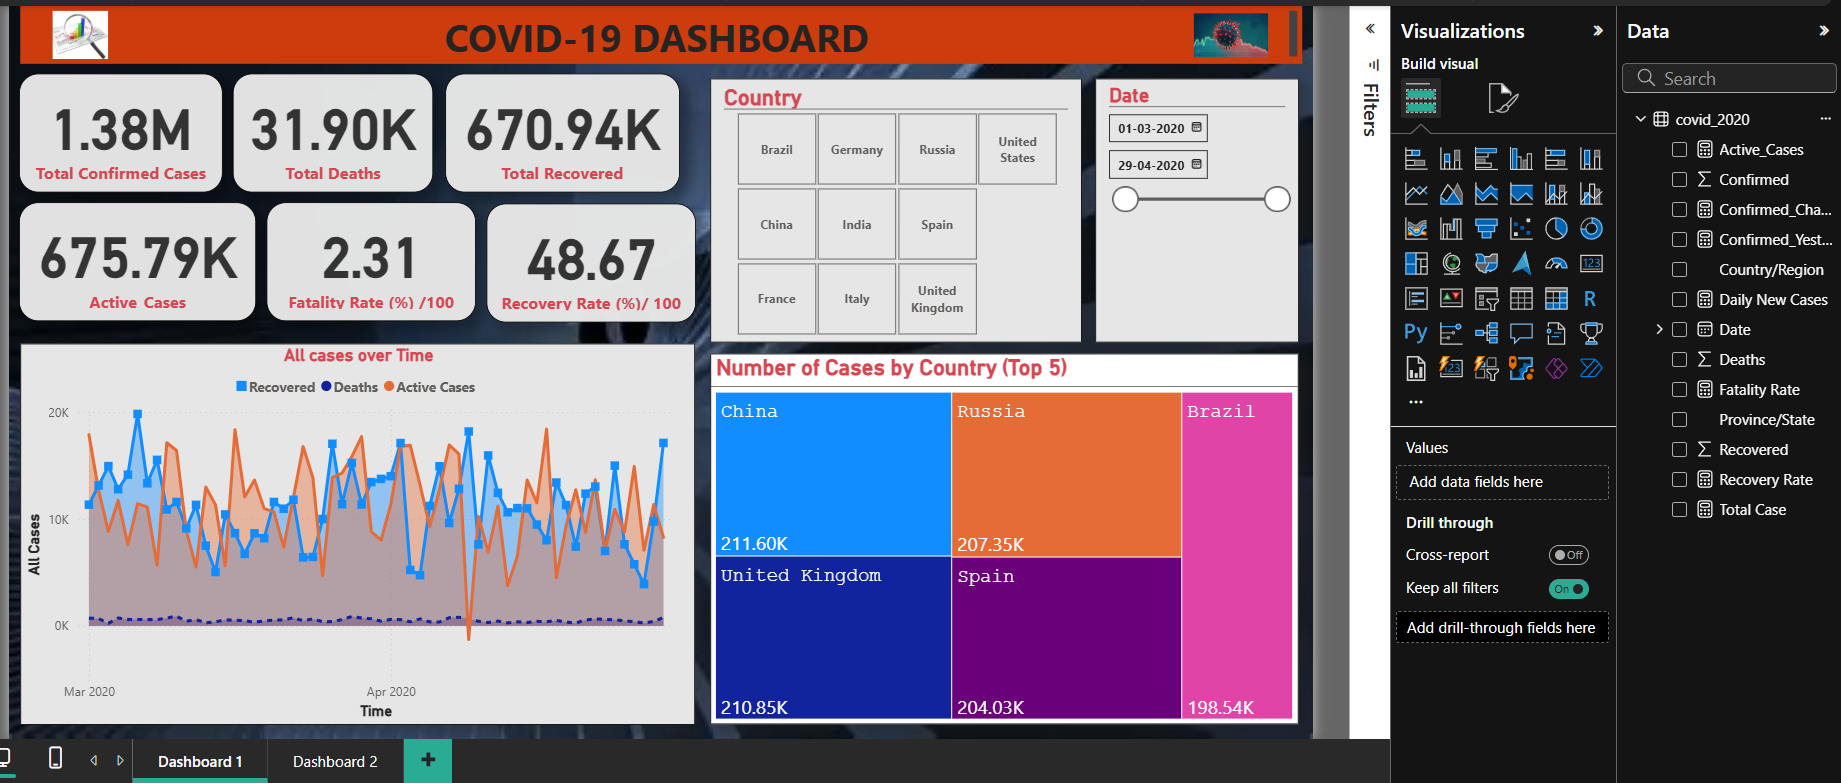

Layout of this report page (visuals, bound fields, positions):
{"tool":"powerbi","page":{"name":"Dashboard 1","canvas":[1280,720],"ordinal":0},"visuals":[{"type":"textbox","box":[11.4,0,1258.6,57.1],"z":0},{"type":"image","box":[1158.6,0,82.9,57.1],"z":1000},{"type":"image","box":[38.6,0,64.3,57.1],"z":2000},{"type":"card","fields":{"Values":["Sum(covid_2020.Confirmed)"]},"box":[10,65.7,200,117.1],"z":3000},{"type":"card","fields":{"Values":["Sum(covid_2020.Deaths)"]},"box":[220,65.7,197.1,117.1],"z":4000},{"type":"card","fields":{"Values":["Sum(covid_2020.Recovered)"]},"box":[428.6,65.7,230,117.1],"z":5000},{"type":"card","fields":{"Values":["covid_2020.Active_Cases"]},"box":[10,192.9,232.9,117.1],"z":6000},{"type":"card","fields":{"Values":["covid_2020.Fatality Rate"]},"box":[252.9,192.9,205.7,117.1],"z":7000},{"type":"card","fields":{"Values":["covid_2020.Recovery Rate"]},"box":[468.6,194.3,205.7,117.1],"z":8000},{"type":"slicer","fields":{"Values":["covid_2020.Country/Region"]},"box":[688.9,71.4,365,259.3],"z":10000},{"type":"slicer","fields":{"Values":["covid_2020.Date"]},"box":[1066.2,71.4,200.3,259.3],"z":11000},{"type":"treemap","title":"Number of Cases by Country (Top 5)","fields":{"Group":["covid_2020.Country/Region"],"Values":["covid_2020.Total Case"]},"box":[688.9,341.7,577.7,363.6],"z":12000},{"type":"areaChart","title":"All cases over Time","fields":{"Y":["Sum(covid_2020.Recovered)","Sum(covid_2020.Deaths)","covid_2020.Active_Cases"],"Category":["covid_2020.Date"]},"box":[11,330.7,662.8,374.6],"z":12001}]}

Visuals, with their boxes on the page's 1280x720 design canvas (x1, y1, x2, y2). These are canvas units, not pixel positions in the 1841x783 screenshot, which may show the page scaled, cropped or inside an application window:
textbox: detection(11, 0, 1270, 57)
image: detection(1159, 0, 1242, 57)
image: detection(39, 0, 103, 57)
card - Sum(covid_2020.Confirmed): detection(10, 66, 210, 183)
card - Sum(covid_2020.Deaths): detection(220, 66, 417, 183)
card - Sum(covid_2020.Recovered): detection(429, 66, 659, 183)
card - covid_2020.Active_Cases: detection(10, 193, 243, 310)
card - covid_2020.Fatality Rate: detection(253, 193, 459, 310)
card - covid_2020.Recovery Rate: detection(469, 194, 674, 311)
slicer - covid_2020.Country/Region: detection(689, 71, 1054, 331)
slicer - covid_2020.Date: detection(1066, 71, 1266, 331)
"Number of Cases by Country (Top 5)" treemap: detection(689, 342, 1267, 705)
"All cases over Time" areaChart: detection(11, 331, 674, 705)
